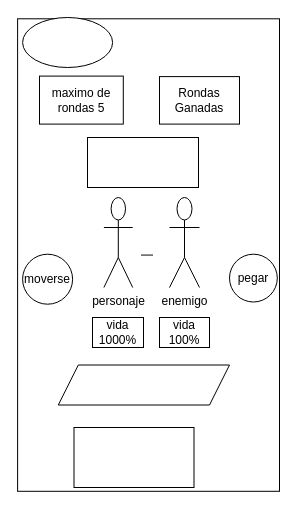
The diagram is 297 pixels wide and 509 high, and some of its shapes have lost their labels. Here are the shapes that lost their labels. From the top down, the box of each, then its label:
(22, 16, 113, 68): configuracion
(86, 136, 198, 188): puntos acumulados
(57, 364, 230, 405): 1vs1
(73, 426, 194, 488): selecionar modo de juego
